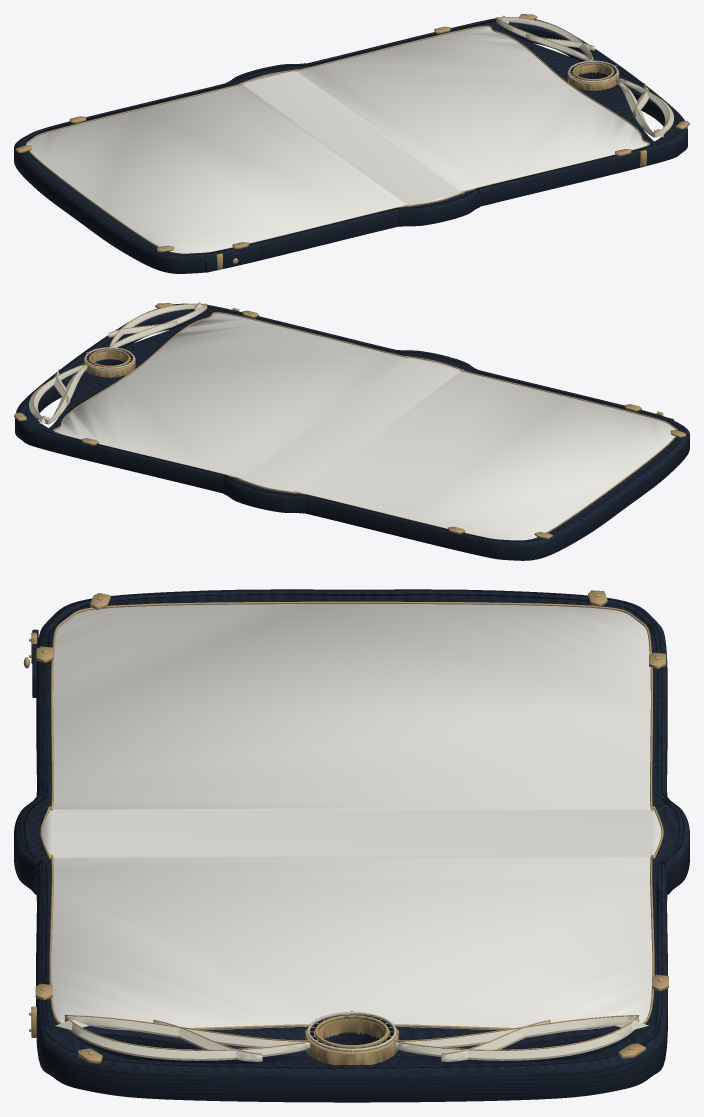
The model's file is board-low.glb.
The picture shows the model from 3 angles, top to bottom: view 1: azimuth 30°, elevation 25°; view 2: azimuth 150°, elevation 25°; view 3: azimuth 270°, elevation 25°; orthographic projection. The views are drawn at different scales.
Visible parts, largest first — view 1: aligned_02_IvoryWeave, aligned_01_InkWood, aligned_04_ChampagneBrass, aligned_05_WarmSilver, aligned_06_RecessInk; view 2: aligned_02_IvoryWeave, aligned_01_InkWood, aligned_04_ChampagneBrass, aligned_05_WarmSilver, aligned_06_RecessInk; view 3: aligned_02_IvoryWeave, aligned_01_InkWood, aligned_04_ChampagneBrass, aligned_05_WarmSilver, aligned_06_RecessInk.
Part boxes in pixels (x1,y1,x2,y2): aligned_02_IvoryWeave: (26,26,648,253); aligned_01_InkWood: (14,17,687,273); aligned_04_ChampagneBrass: (15,14,689,270); aligned_05_WarmSilver: (496,17,673,137); aligned_06_RecessInk: (20,18,682,255); aligned_02_IvoryWeave: (54,313,675,540); aligned_01_InkWood: (15,303,689,560); aligned_04_ChampagneBrass: (14,302,686,539); aligned_05_WarmSilver: (29,303,207,424); aligned_06_RecessInk: (21,304,683,542); aligned_02_IvoryWeave: (42,604,661,1030); aligned_01_InkWood: (14,589,689,1102); aligned_04_ChampagneBrass: (23,590,668,1064); aligned_05_WarmSilver: (55,1012,648,1061); aligned_06_RecessInk: (19,590,684,1068).
Size of the model in its own units: 1.6 by 0.069 by 0.94.
Materials: 5 (2 with a texture image).
